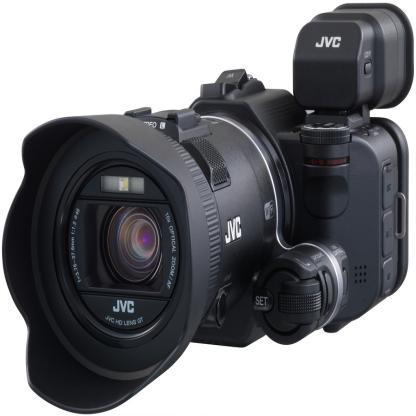Camera: (17, 26, 410, 400)
